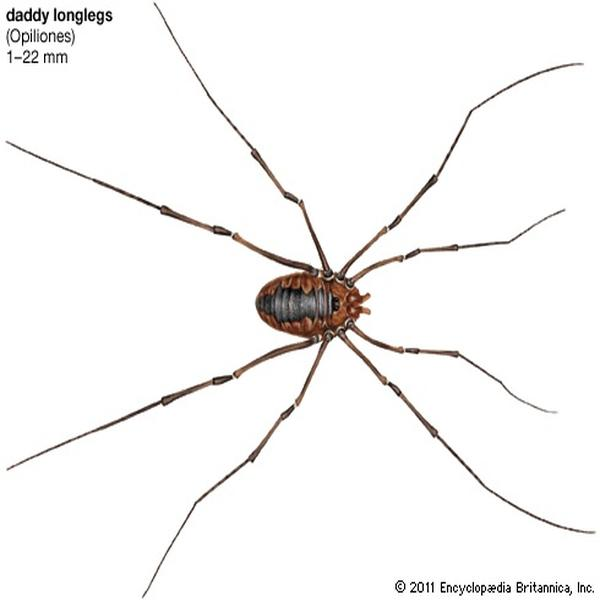Daddy Long Legs Spider: (12, 11, 593, 594)
